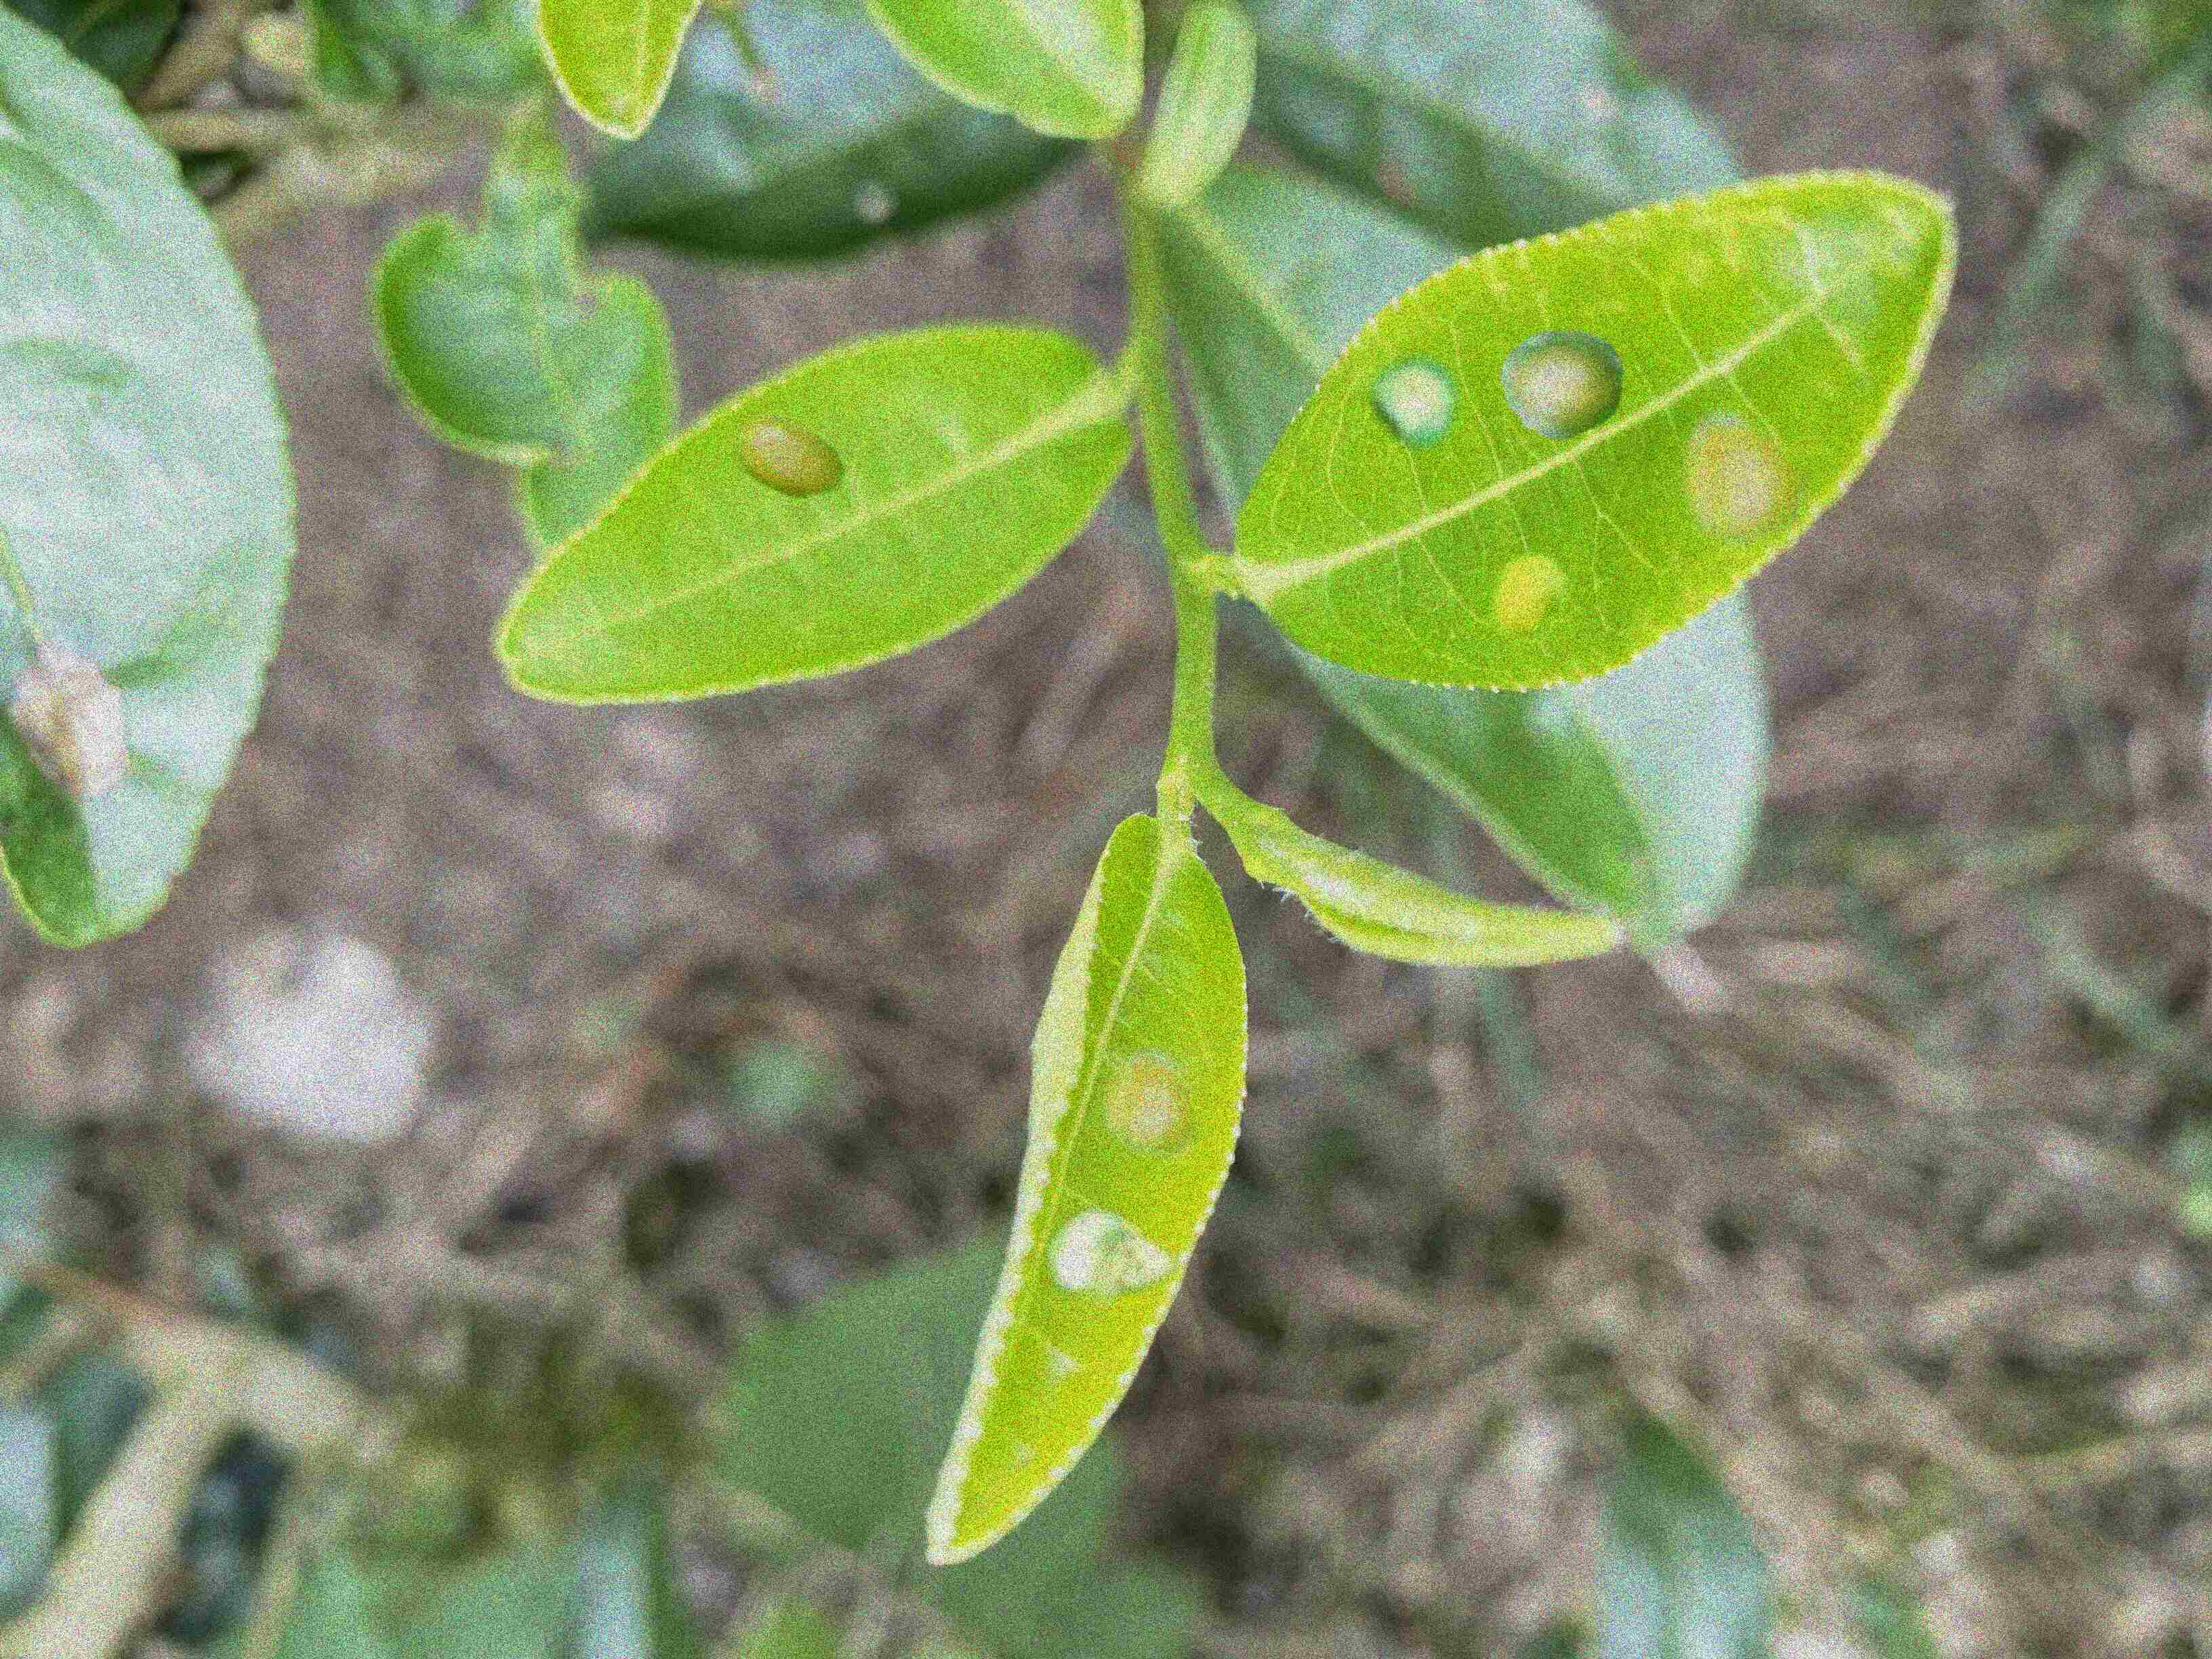chabing_high: (1231, 176, 1958, 694), (928, 810, 1249, 1568)
chabing_low: (498, 326, 1136, 706)
tanju_high: (2, 3, 301, 948)
